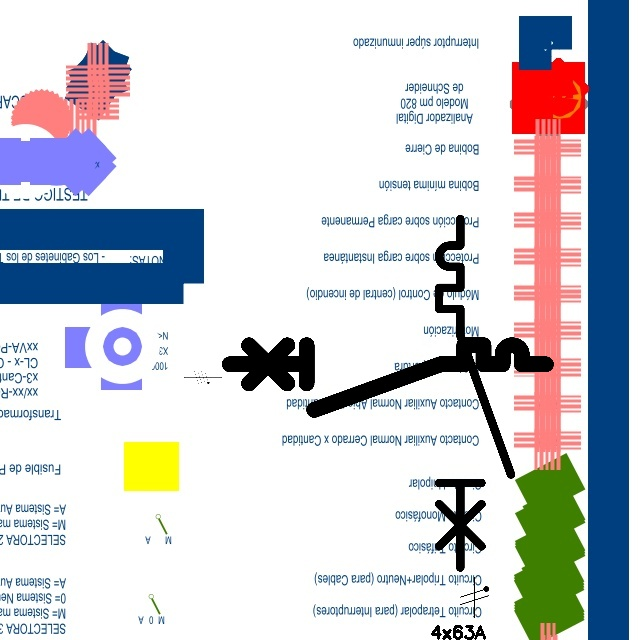interruptor_termomagnetico: (430, 210, 519, 576), (221, 337, 553, 418)
